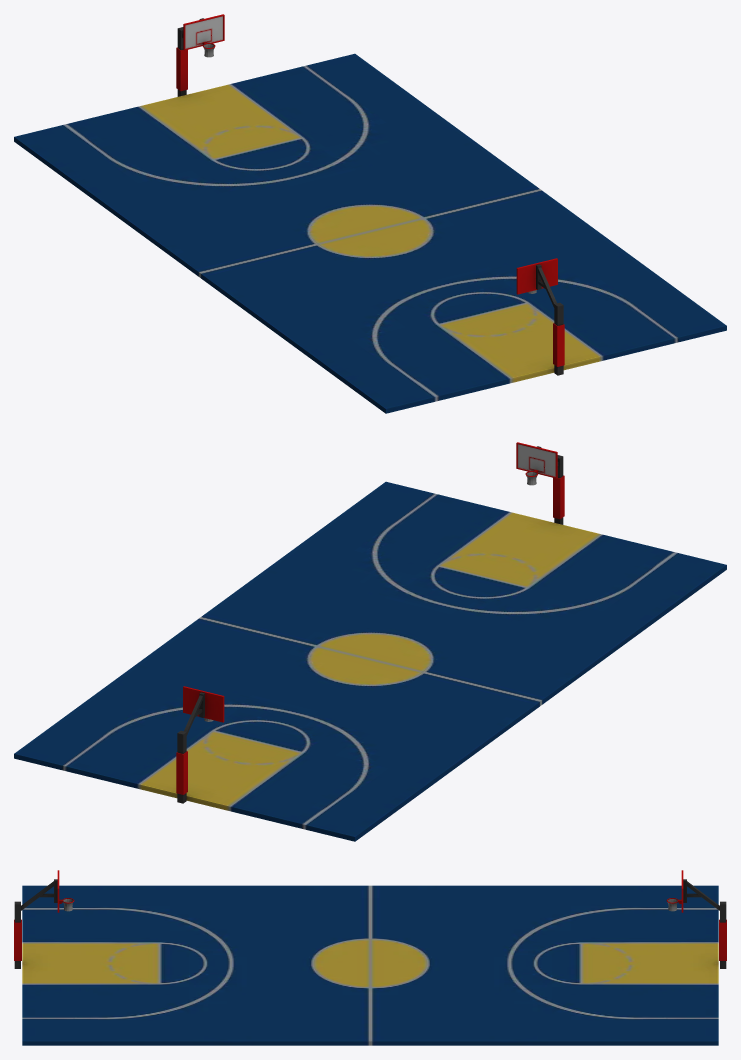
Rendered from court.glb.
3 renders of one model, top to bottom at view 1: azimuth 30°, elevation 25°; view 2: azimuth 150°, elevation 25°; view 3: azimuth 270°, elevation 25°, orthographic. The views are drawn at different scales.
Parts seen in each view (by area): view 1: BasketBallCourt_Mesh; view 2: BasketBallCourt_Mesh; view 3: BasketBallCourt_Mesh.
Boxes of the visible parts, x1,y1,x2,y2 form: BasketBallCourt_Mesh: (14, 14, 726, 413); BasketBallCourt_Mesh: (14, 442, 726, 841); BasketBallCourt_Mesh: (14, 870, 726, 1045).
Size of the model in its own units: 15.2 by 4.03 by 29.4.
1 material, 1 textured.
